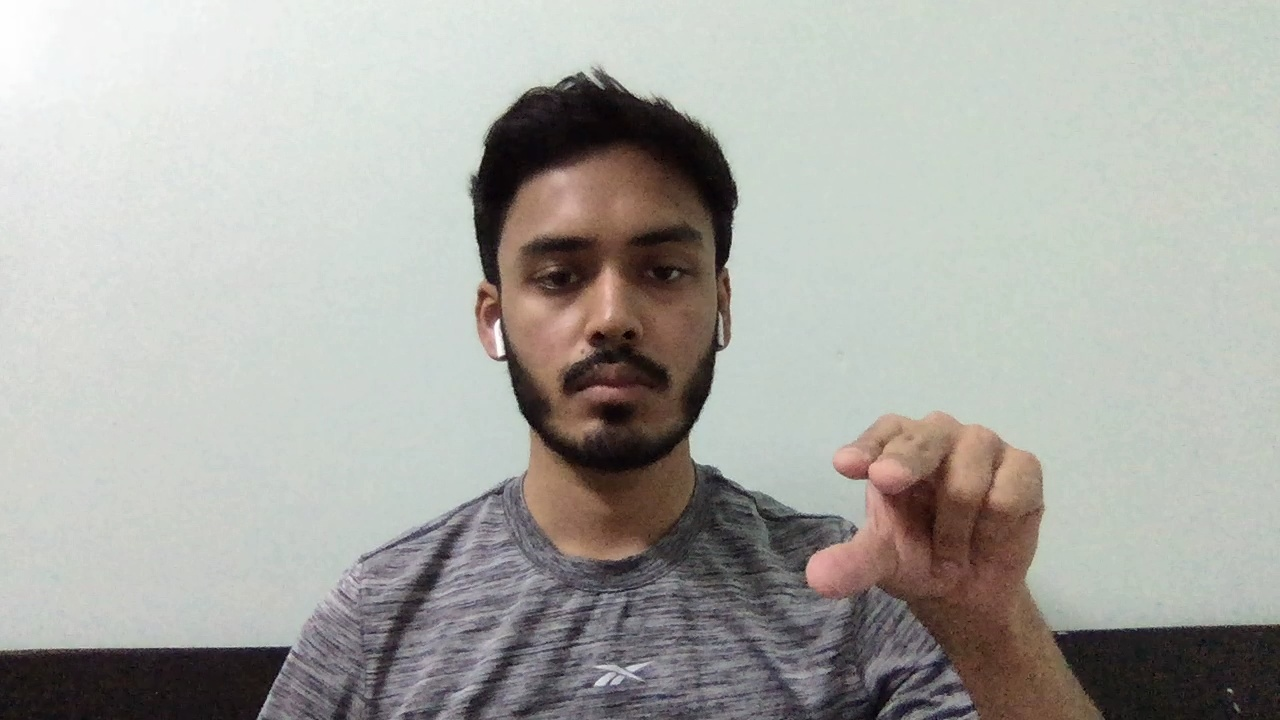No: (781, 392, 1079, 614)
